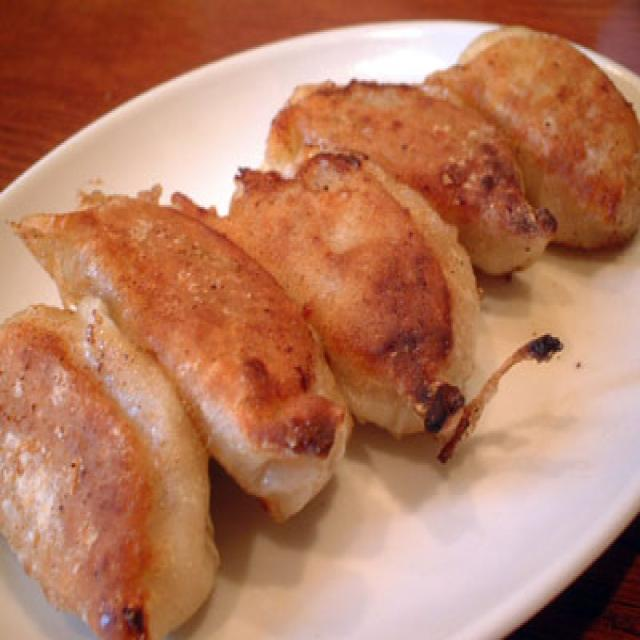带馅早点: (0, 36, 640, 614)
